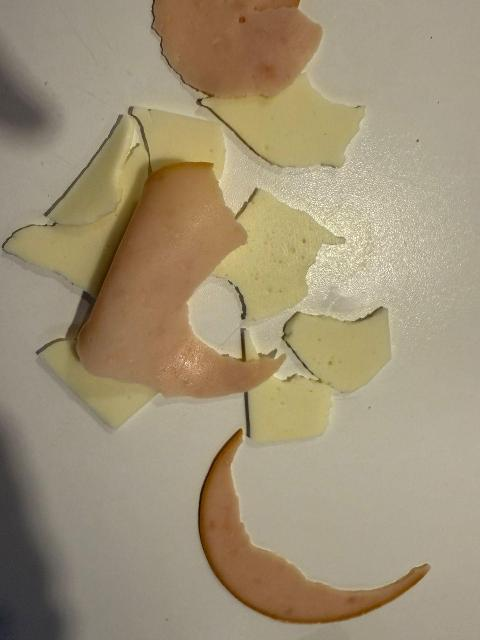Organik: (181, 436, 435, 628), (76, 181, 233, 380), (144, 0, 340, 90), (203, 84, 371, 176), (217, 208, 348, 323), (33, 333, 157, 429), (283, 293, 397, 387), (45, 116, 143, 225), (128, 97, 236, 183), (3, 207, 115, 285)
